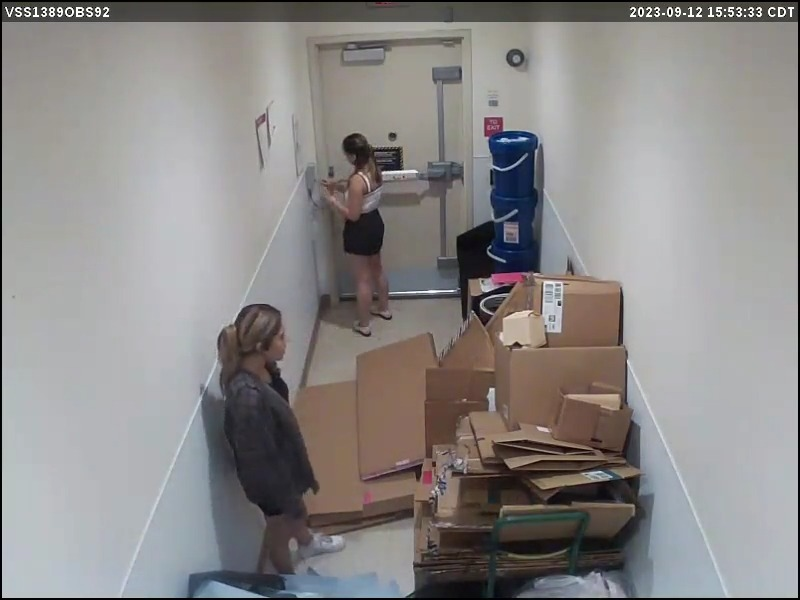No-gloves: (315, 174, 341, 212)
